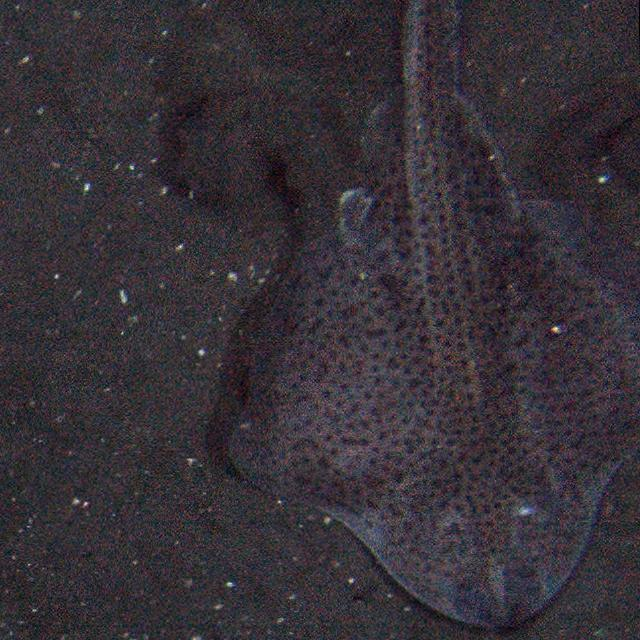skate: (197, 0, 639, 632)
